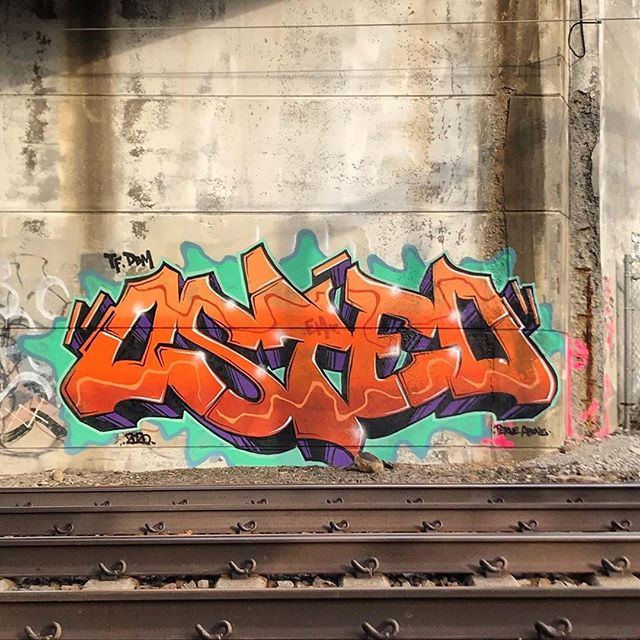graffiti: (24, 225, 571, 458)
train track: (1, 471, 640, 640)
